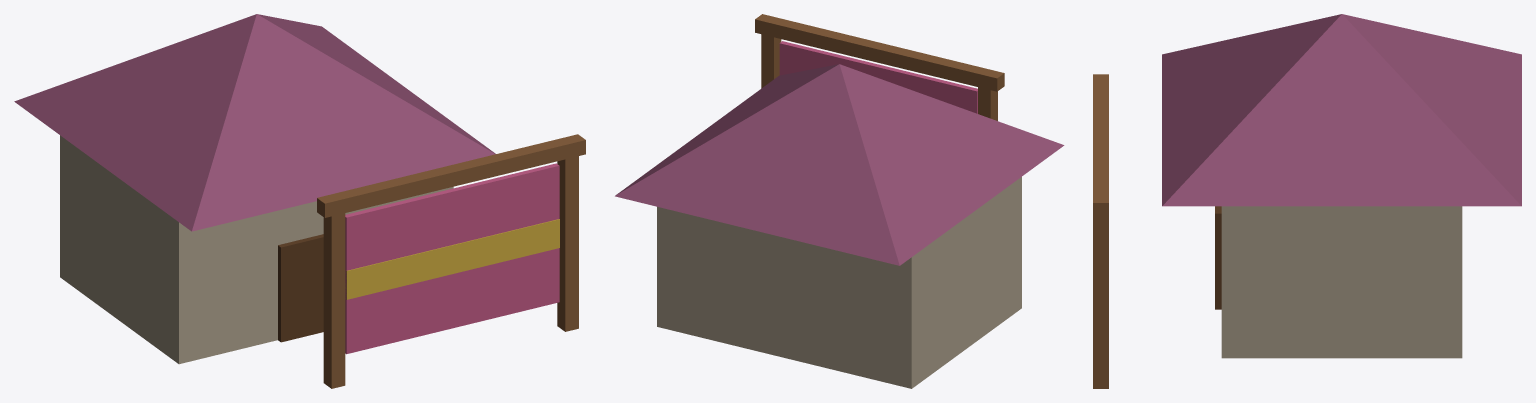
Rendered from weaver.glb.
3 views of the same model, side by side, from view 1: azimuth 30°, elevation 25°; view 2: azimuth 150°, elevation 25°; view 3: azimuth 270°, elevation 25° (orthographic). The views are drawn at different scales.
Visible parts, largest first — view 1: weaver; view 2: weaver; view 3: weaver.
Part boxes in pixels (x1=…): weaver: x1=14, y1=14, x2=585, y2=388; weaver: x1=615, y1=14, x2=1064, y2=388; weaver: x1=1093, y1=14, x2=1521, y2=388.
Bounding box in the file's own units: 0.262 × 0.19 × 0.267.
